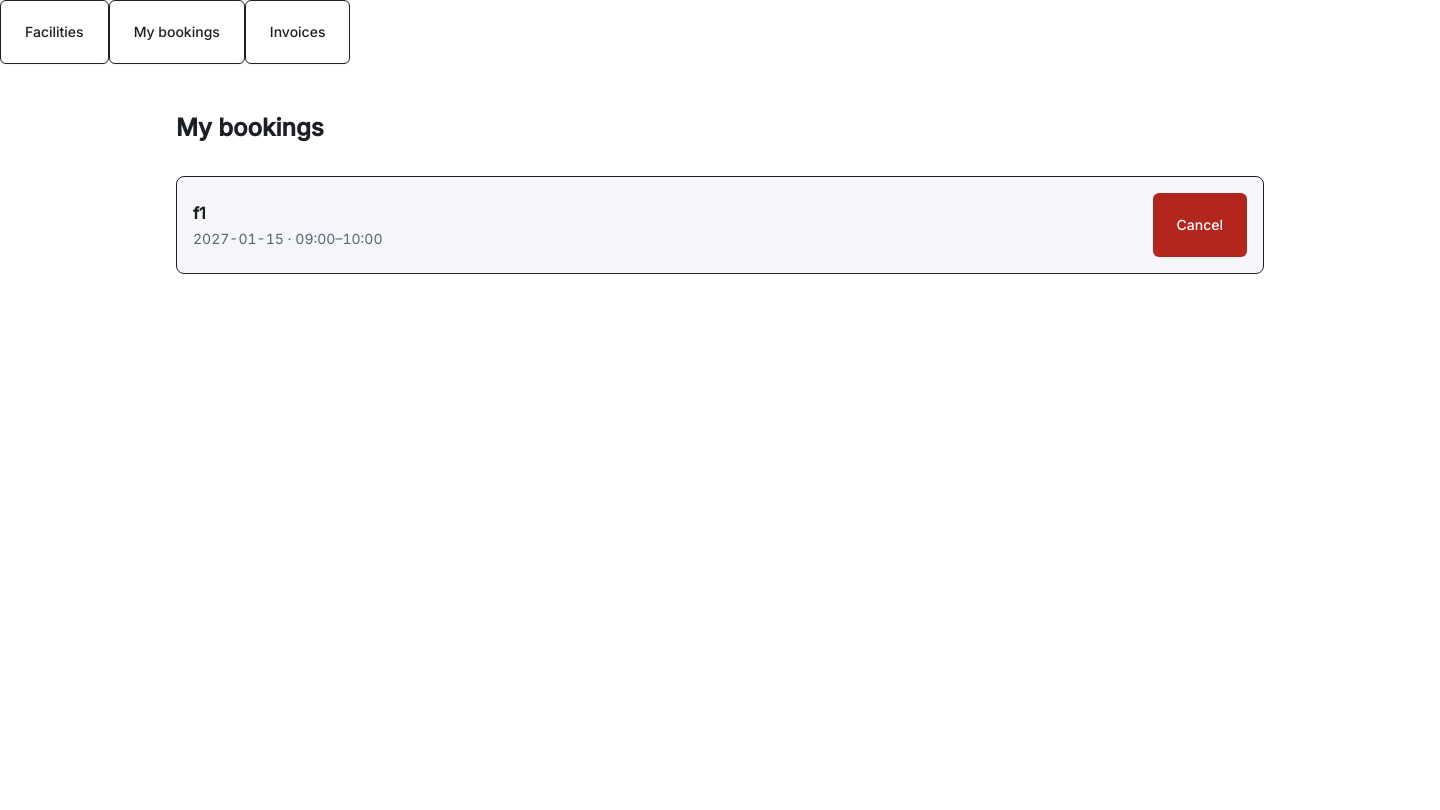
Test: cancellation dialog › shows error in dialog on cancellation failure and keeps dialog open
Click the button "Cancel".
click(1200, 225)  # box [1152,193,1247,257]
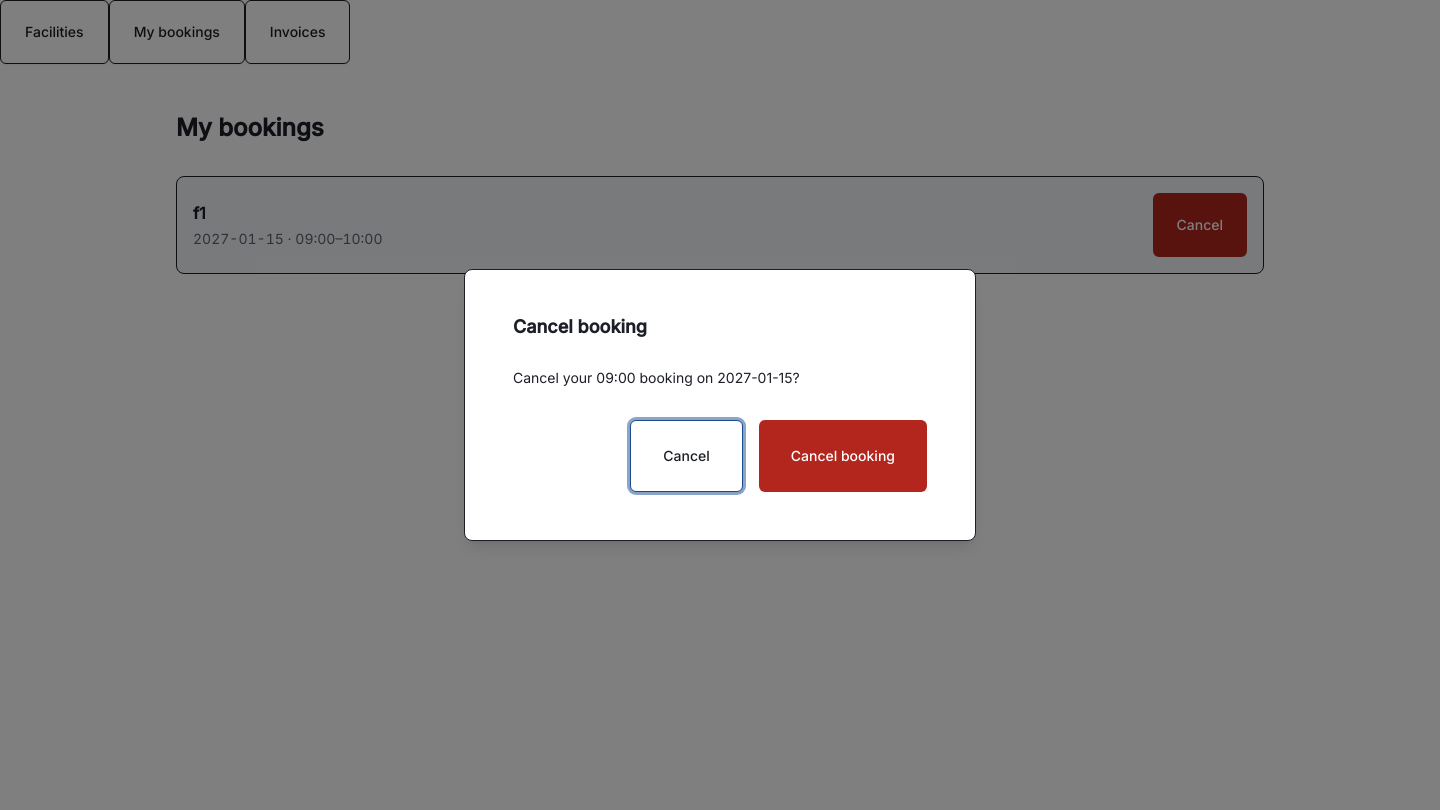
Click the button "Cancel booking".
click(843, 456)  # box [759,420,927,492]
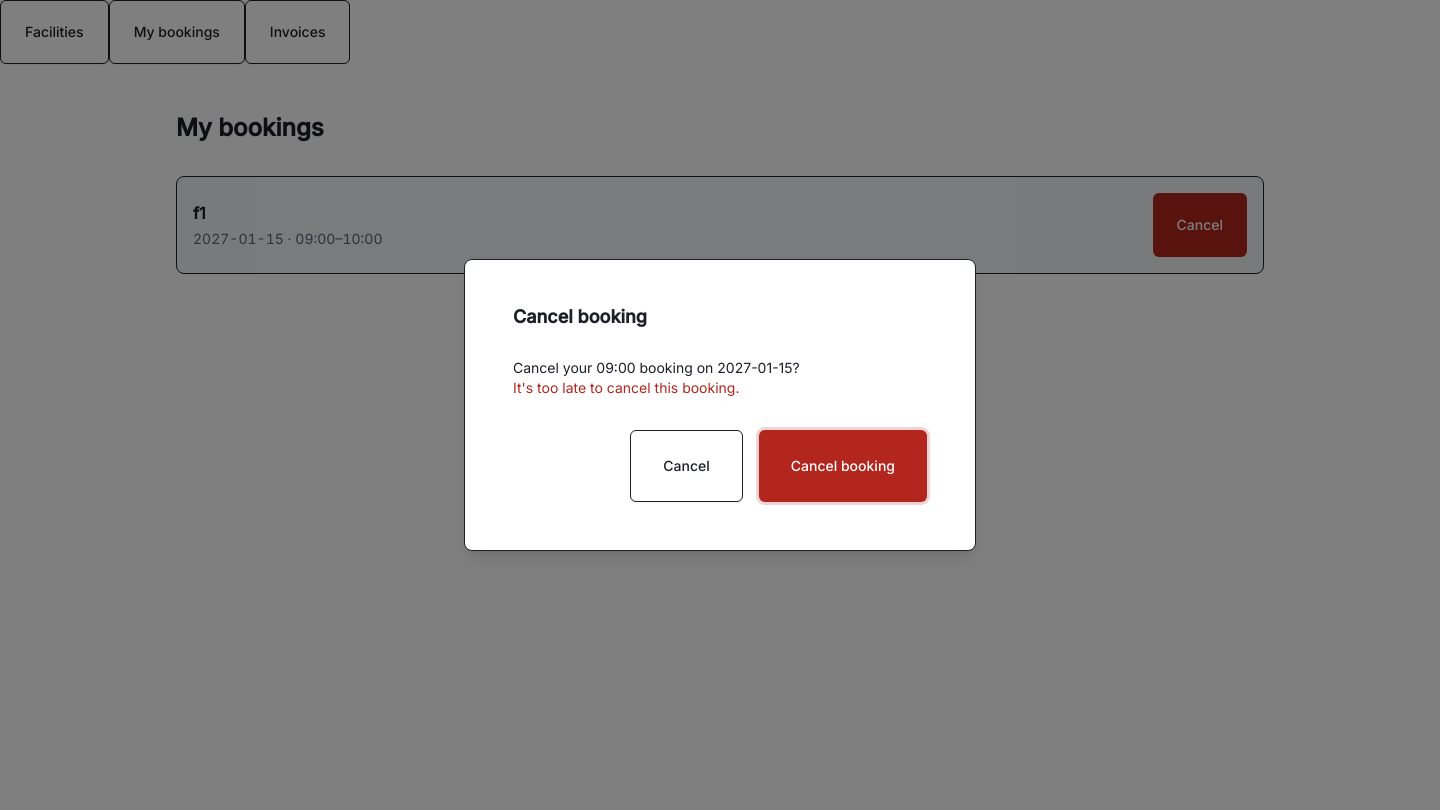
Result: the dialog is shown at [464,259,976,551]
Result: the text "It's too late to cancel this booking." is shown at [513,379,740,396]
